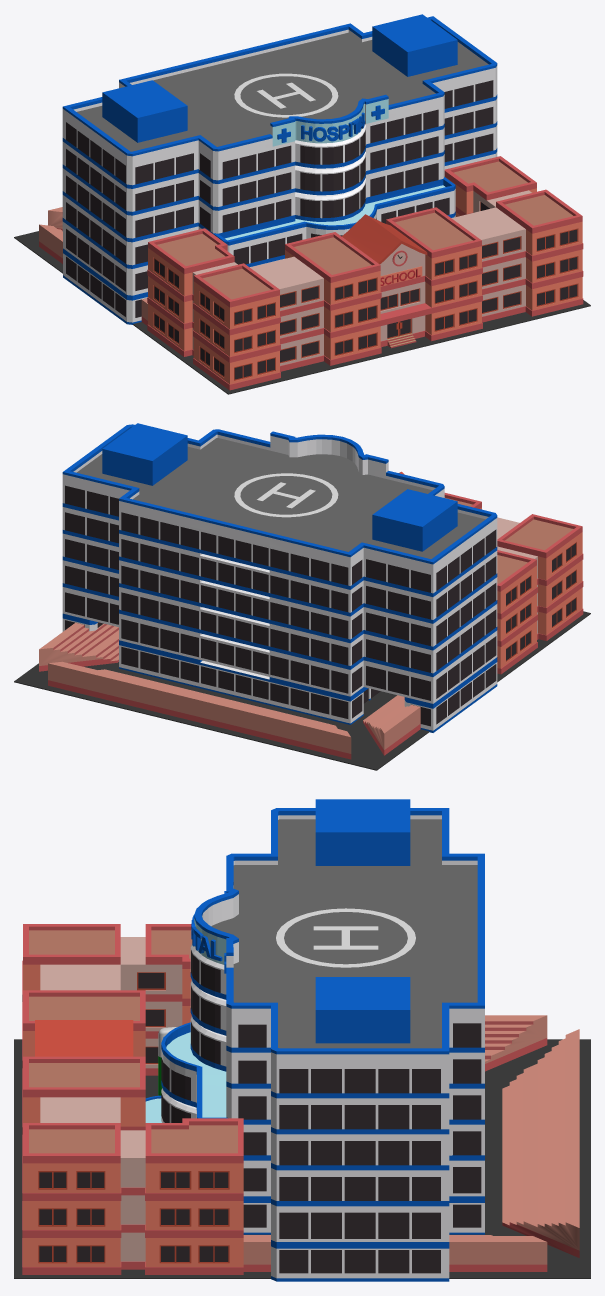
Rendered from public_main.glb.
3 views of the same model, one above another, from view 1: azimuth 30°, elevation 25°; view 2: azimuth 150°, elevation 25°; view 3: azimuth 270°, elevation 25° (orthographic). The views are drawn at different scales.
Visible parts, largest first — view 1: PublicBuilding_Hospital, PublicBuilding_School; view 2: PublicBuilding_Hospital, PublicBuilding_School; view 3: PublicBuilding_Hospital, PublicBuilding_School.
Part boxes in pixels (left/top/right/bottom): PublicBuilding_Hospital: left=62, top=14, right=497, bottom=324; PublicBuilding_School: left=14, top=156, right=590, bottom=394; PublicBuilding_Hospital: left=62, top=423, right=497, bottom=732; PublicBuilding_School: left=14, top=471, right=590, bottom=770; PublicBuilding_Hospital: left=145, top=799, right=484, bottom=1281; PublicBuilding_School: left=14, top=924, right=590, bottom=1278.
Size of the model in its own units: 4.74 by 2.32 by 4.75.
Materials: 1 (1 with a texture image).
